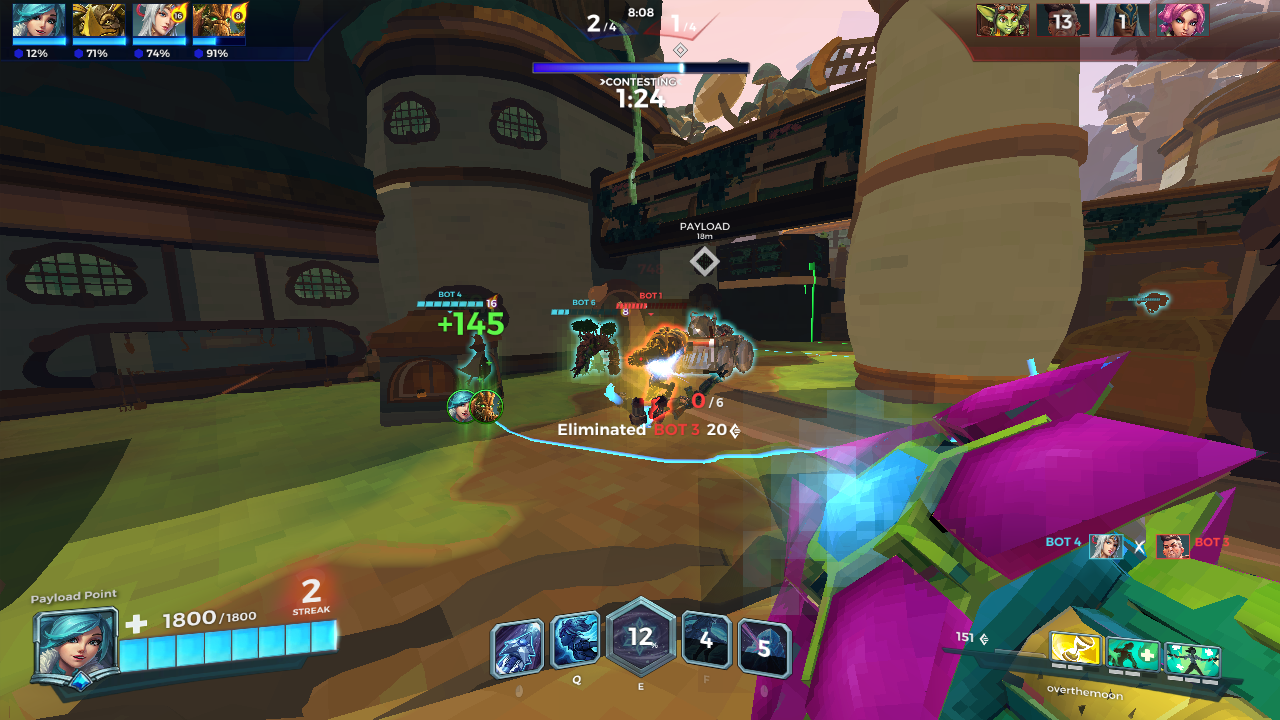model: (616, 316, 695, 427)
